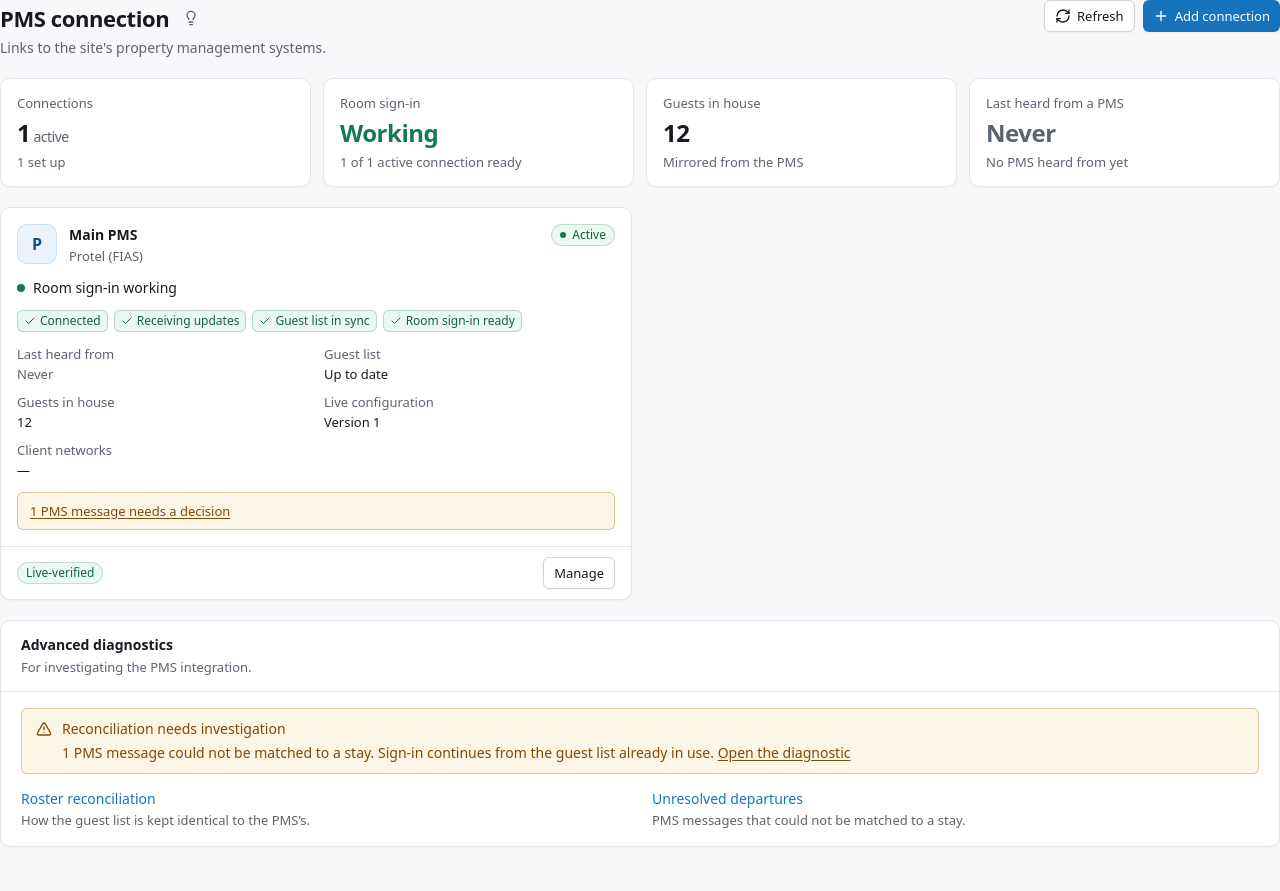
Scenario: PMS interfaces page › shows the health dimensions separately and the age of the backlog
Check: the heading "Main PMS" is shown, box [69, 225, 138, 245]
Step 1. Click the button "Manage" → [579, 573], box [543, 557, 615, 589]
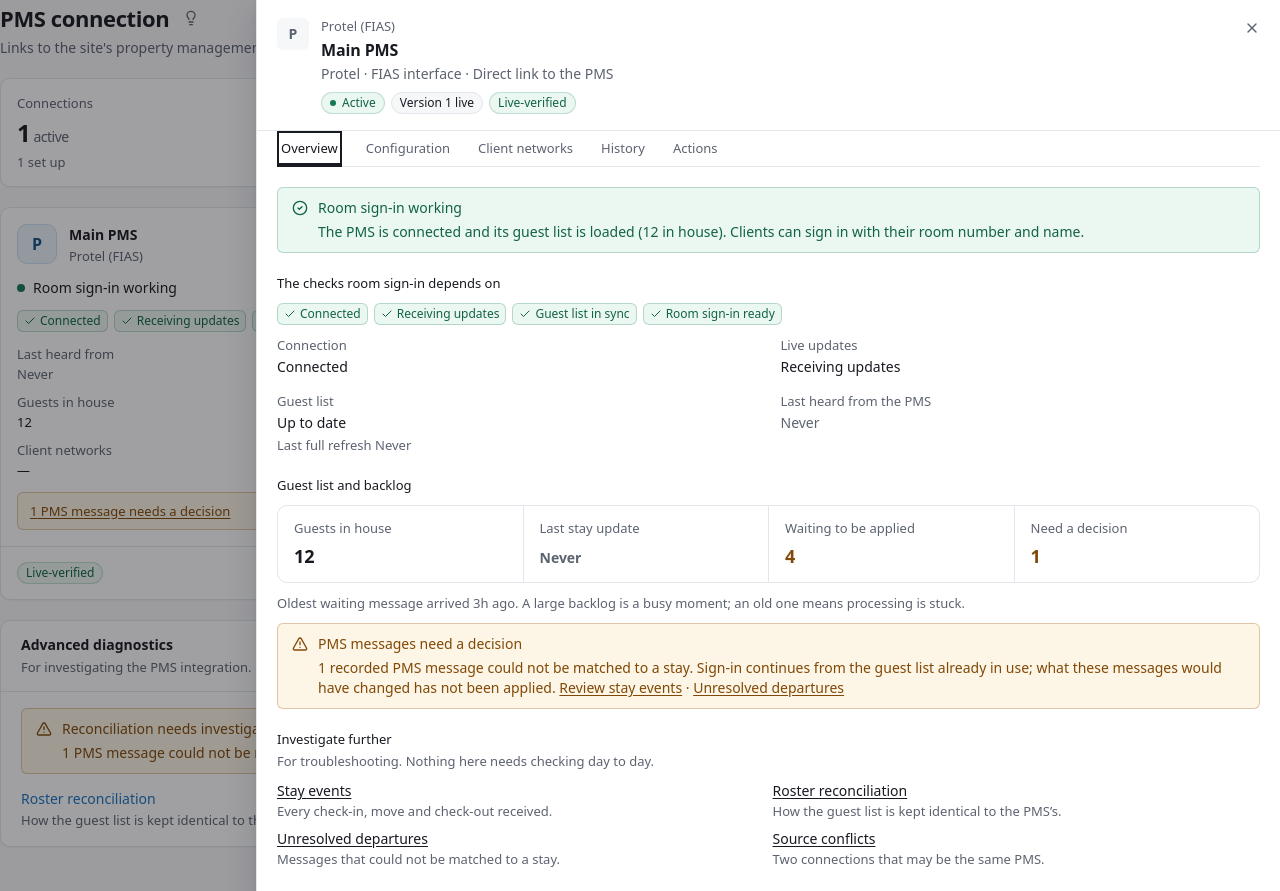
Check: the heading "The checks room sign-in depends on" is shown, box [277, 273, 500, 293]
Check: the text "Connection" is shown, box [277, 336, 347, 354]
Check: the text "Live updates" is shown, box [780, 336, 858, 354]
